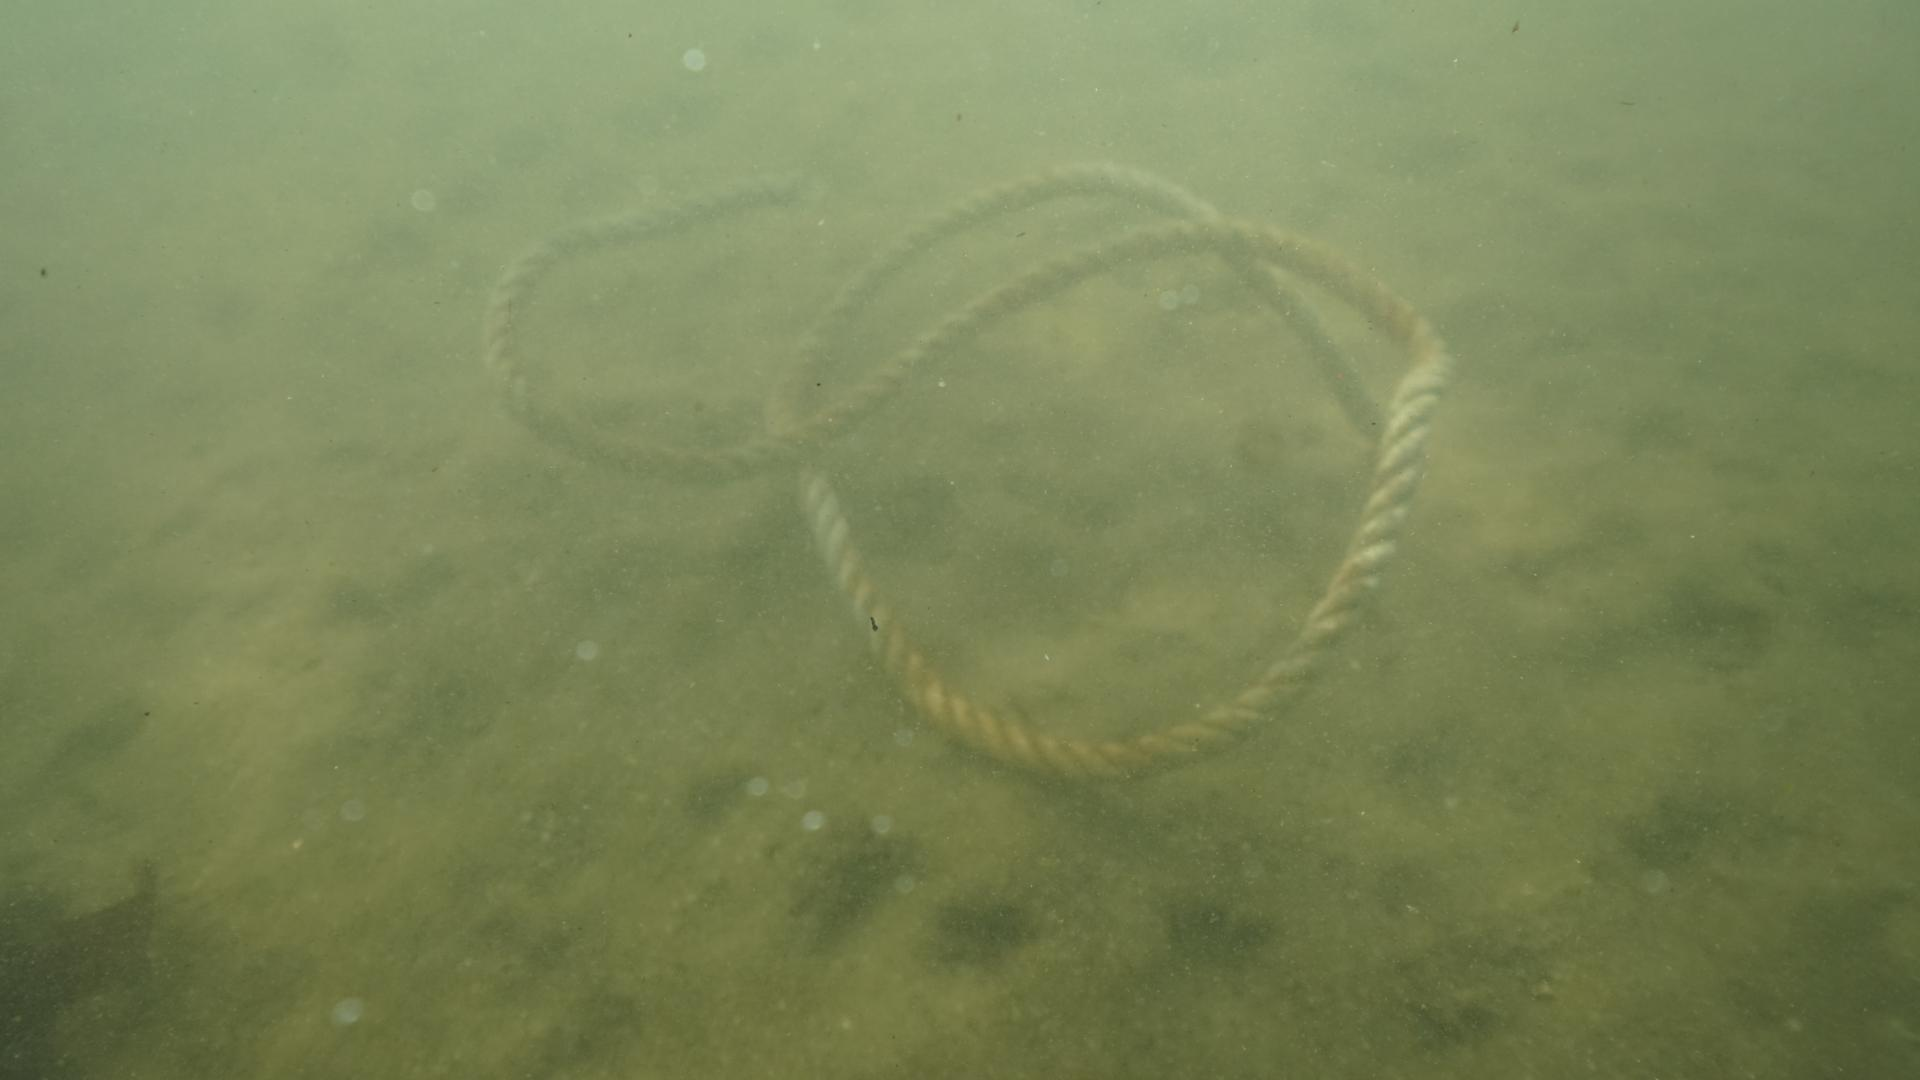rope: (469, 156, 1455, 795)
